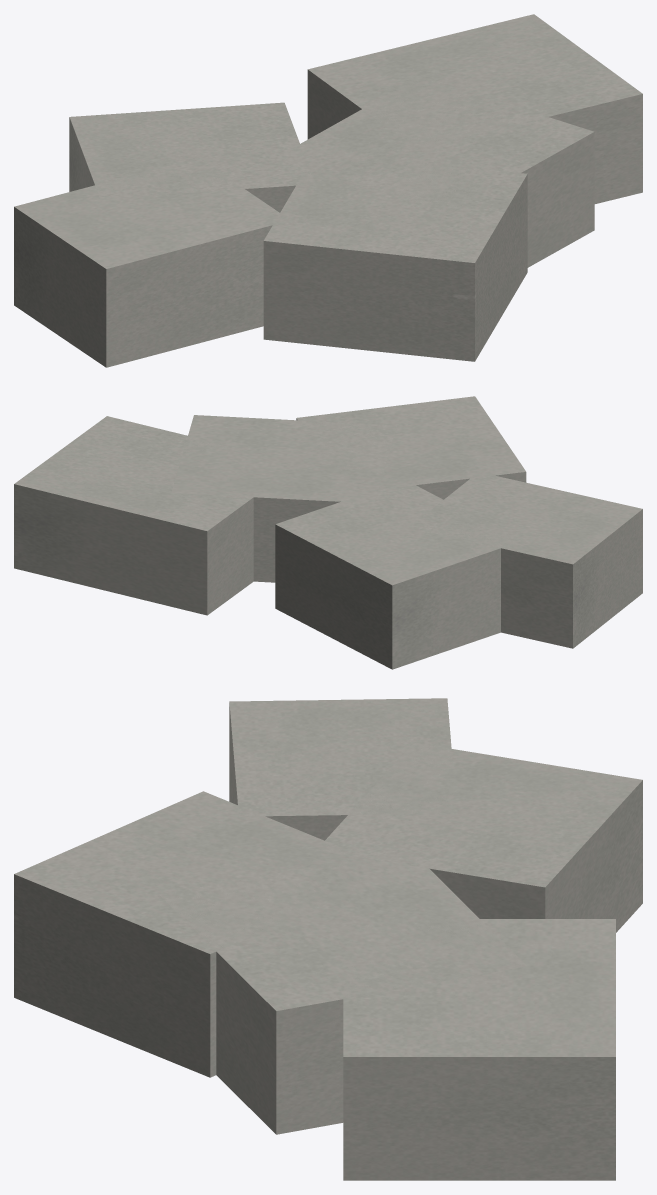
The model's file is rubble.fbx.
3 views of the same model, one above another, from view 1: azimuth 30°, elevation 25°; view 2: azimuth 150°, elevation 25°; view 3: azimuth 270°, elevation 25° (orthographic). The views are drawn at different scales.
Visible parts, largest first — view 1: chunk2, chunk4, chunk0, chunk1, chunk3; view 2: chunk0, chunk3, chunk4, chunk1, chunk2; view 3: chunk0, chunk2, chunk1, chunk3, chunk4.
Part boxes in pixels (x1,y1,x2,y2): chunk2: (263, 161, 527, 361); chunk4: (14, 158, 279, 367); chunk0: (307, 14, 642, 203); chunk1: (277, 78, 594, 267); chunk3: (69, 102, 314, 212); chunk0: (14, 416, 253, 615); chunk3: (275, 485, 521, 669); chunk4: (409, 475, 642, 648); chunk1: (171, 415, 396, 582); chunk2: (296, 396, 526, 499); chunk0: (343, 919, 615, 1180); chunk2: (14, 791, 386, 1077); chunk1: (159, 859, 526, 1134); chunk3: (316, 742, 642, 932); chunk4: (229, 698, 456, 840).
Size of the model in its own units: 311 by 50 by 231.
